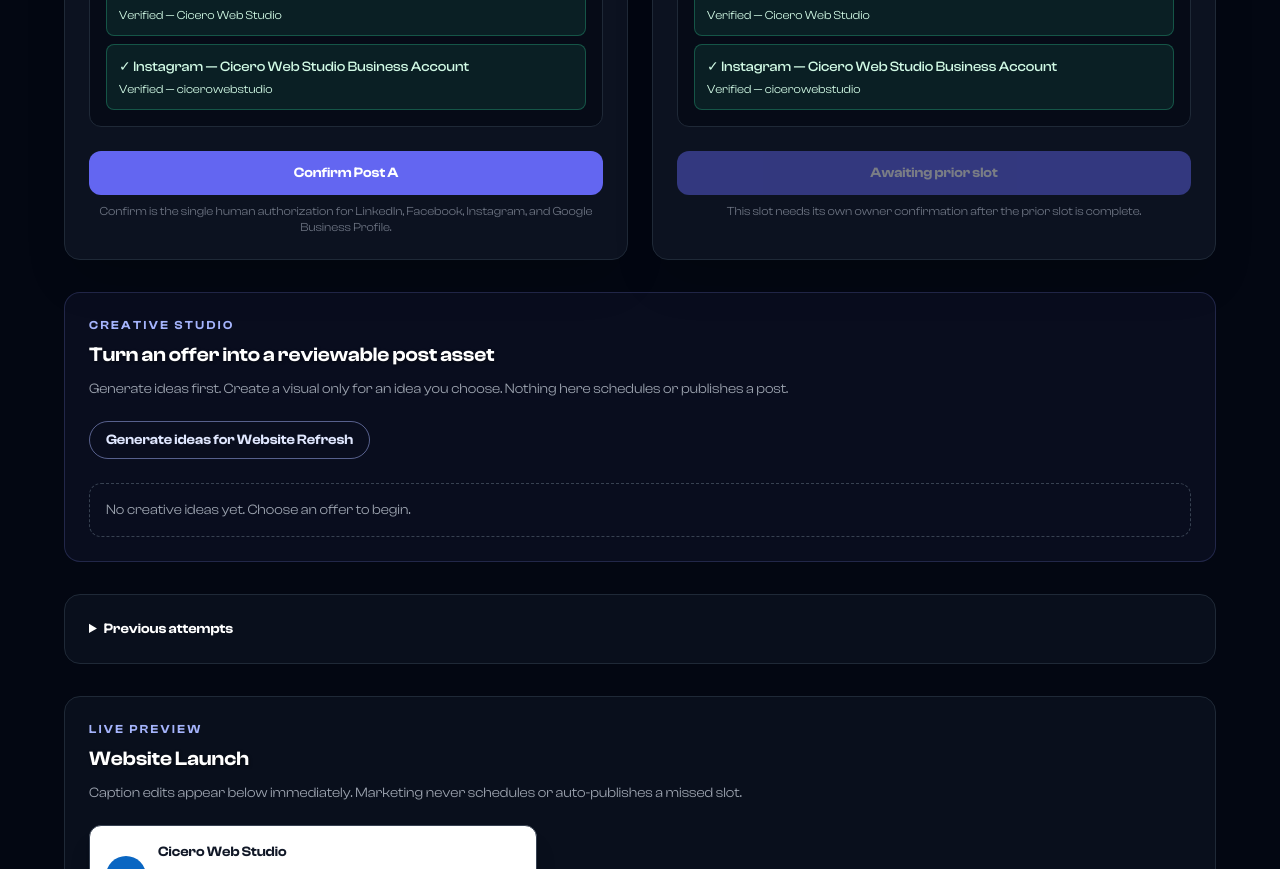
Test: MarketingPage Creative Studio › creates ideas only through an explicit owner action and never confirms a post
(page scrolled)
Click the button "Generate ideas for Website Refresh": (230, 440) [89, 421, 370, 459]
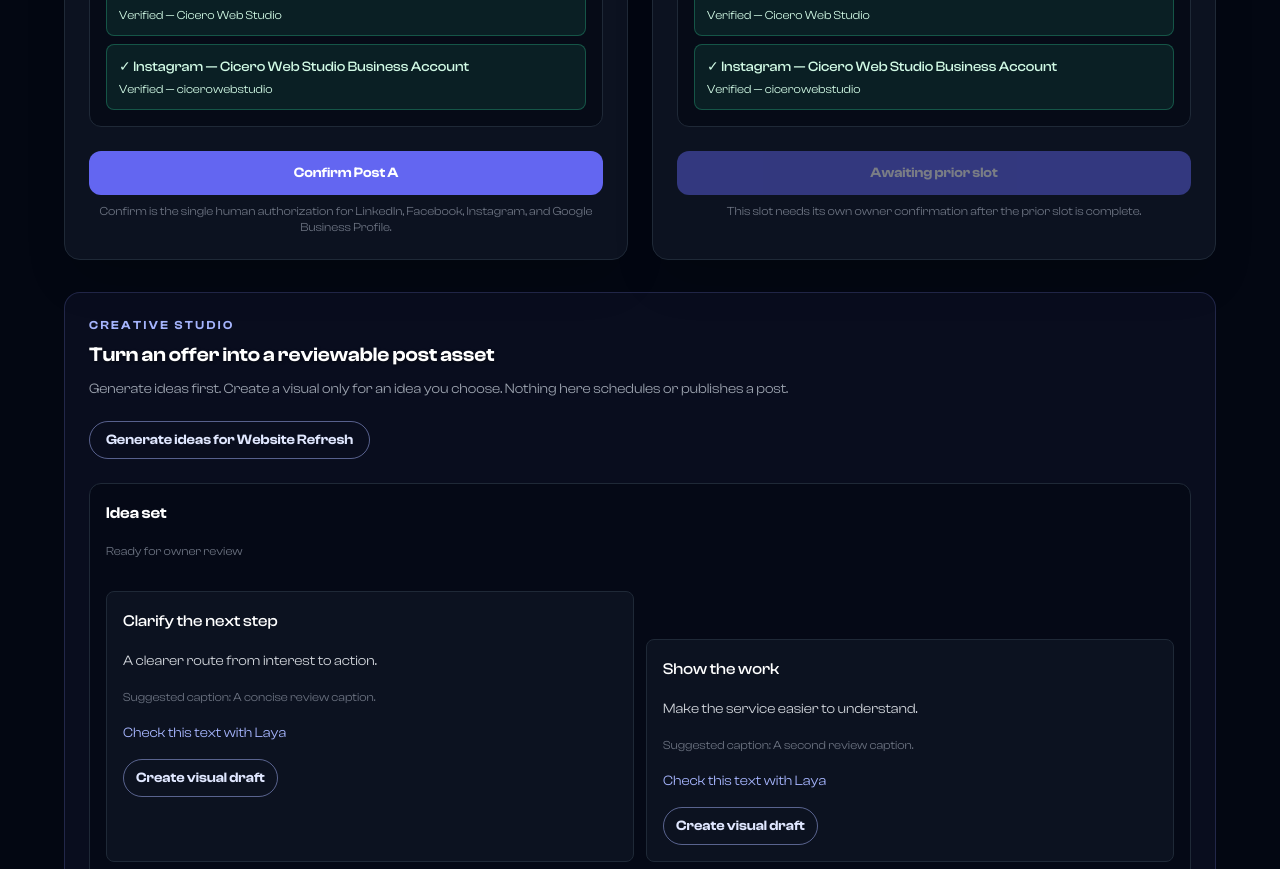
expect the text "Clarify the next step" is shown: met, box [123, 612, 278, 630]
